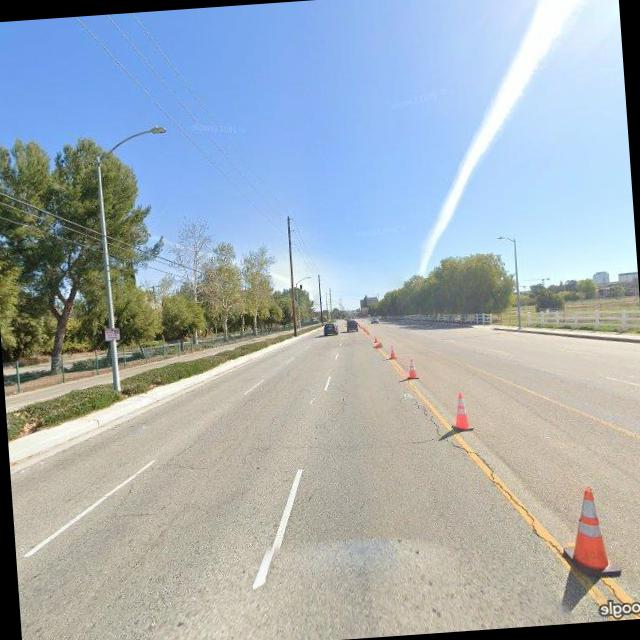pothole: (417, 391, 572, 566)
